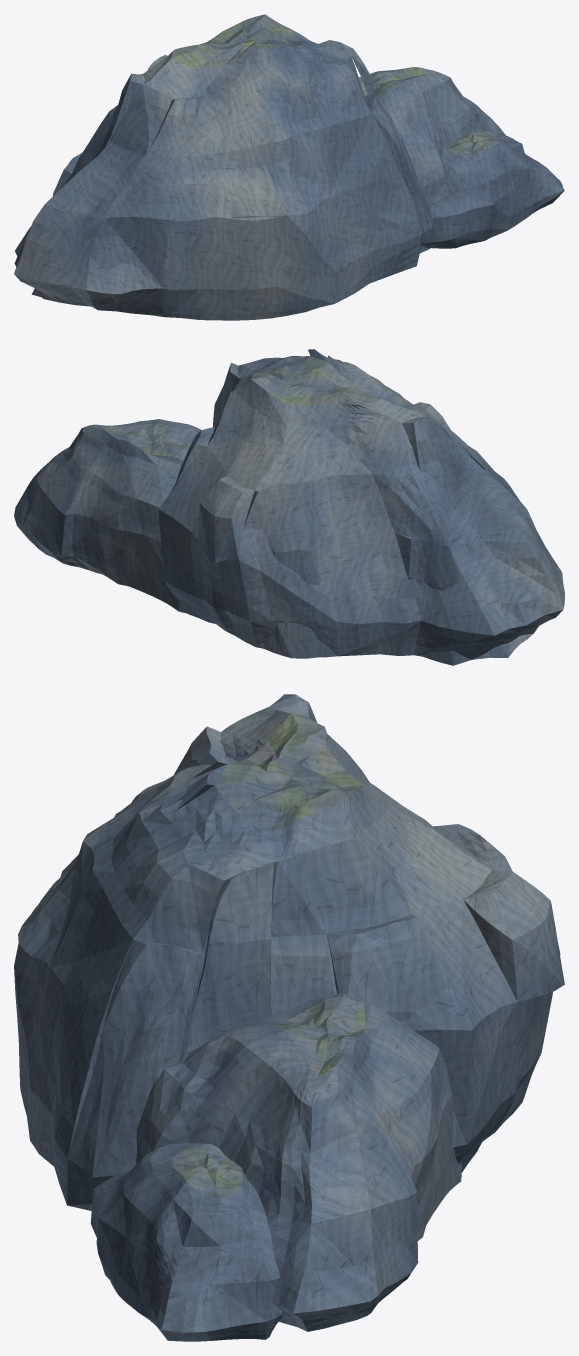
The picture shows the model from 3 angles, top to bottom: view 1: azimuth 30°, elevation 25°; view 2: azimuth 150°, elevation 25°; view 3: azimuth 270°, elevation 25°; orthographic projection. The views are drawn at different scales.
Parts seen in each view (by area): view 1: F17_stone; view 2: F17_stone; view 3: F17_stone.
Boxes of the visible parts, box(x1,y1,x2,y2) form: F17_stone: box(14, 14, 564, 320); F17_stone: box(14, 349, 564, 665); F17_stone: box(14, 694, 564, 1341).
Bounding box in the file's own units: 6.12 × 2.48 × 3.28.
1 material, 1 textured.
